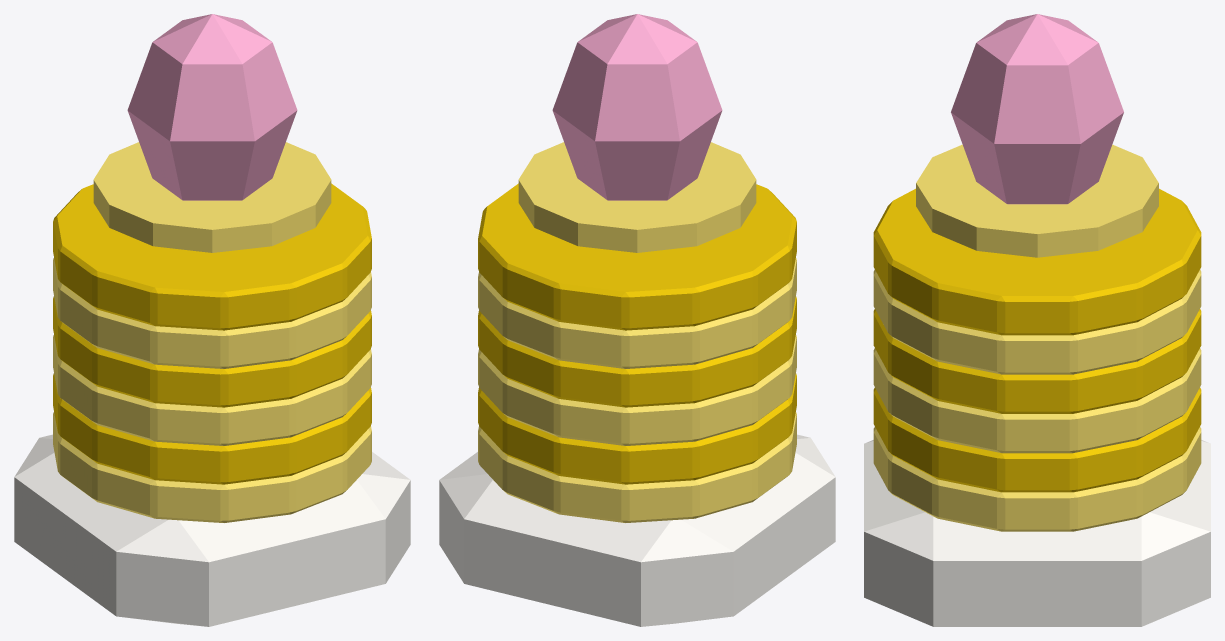
The model's file is CF_FreeStatue.fbx.
3 renders of one model, left to right at view 1: azimuth 30°, elevation 25°; view 2: azimuth 150°, elevation 25°; view 3: azimuth 270°, elevation 25°, orthographic.
Parts seen in each view (by area): view 1: CF_FreeStatue_Gold, CF_FreeStatue_GoldDark, CF_FreeStatue_Stone, CF_FreeStatue_Gem; view 2: CF_FreeStatue_Gold, CF_FreeStatue_GoldDark, CF_FreeStatue_Stone, CF_FreeStatue_Gem; view 3: CF_FreeStatue_Gold, CF_FreeStatue_GoldDark, CF_FreeStatue_Stone, CF_FreeStatue_Gem.
Part boxes in pixels (left/top/right/bottom): CF_FreeStatue_Gold: left=53, top=142, right=371, bottom=522; CF_FreeStatue_GoldDark: left=53, top=183, right=371, bottom=484; CF_FreeStatue_Stone: left=14, top=434, right=410, bottom=626; CF_FreeStatue_Gem: left=127, top=14, right=297, bottom=200; CF_FreeStatue_Gold: left=478, top=142, right=796, bottom=522; CF_FreeStatue_GoldDark: left=478, top=183, right=796, bottom=484; CF_FreeStatue_Stone: left=439, top=434, right=835, bottom=626; CF_FreeStatue_Gem: left=552, top=14, right=722, bottom=200; CF_FreeStatue_Gold: left=873, top=144, right=1201, bottom=531; CF_FreeStatue_GoldDark: left=873, top=188, right=1201, bottom=492; CF_FreeStatue_Stone: left=864, top=440, right=1210, bottom=626; CF_FreeStatue_Gem: left=951, top=14, right=1123, bottom=204.
Size of the model in its own units: 4 by 7.15 by 4.
